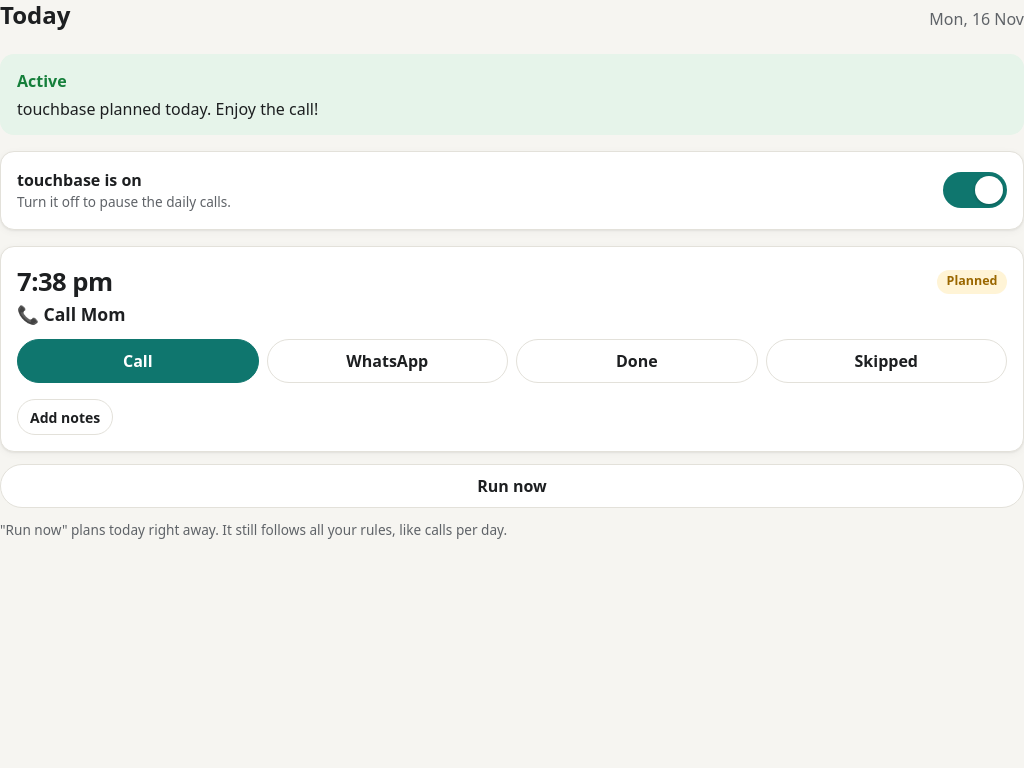
Today screen › pausing asks whether to also remove today's call, and sends the CSRF token
Later steps or results of the test are not shown.
Click the switch named "touchbase on".
click(975, 190)  # box [943, 172, 1007, 208]
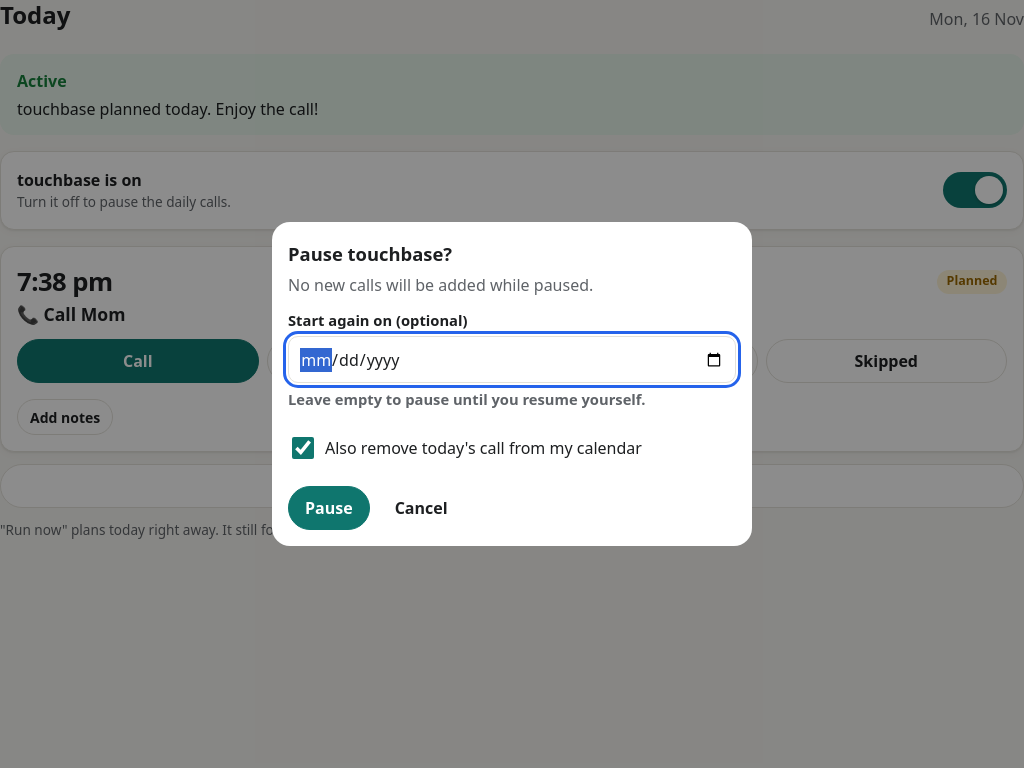
Expected: the checkbox labelled "Also remove today's call from my calendar" is checked, [292, 437, 314, 459]
